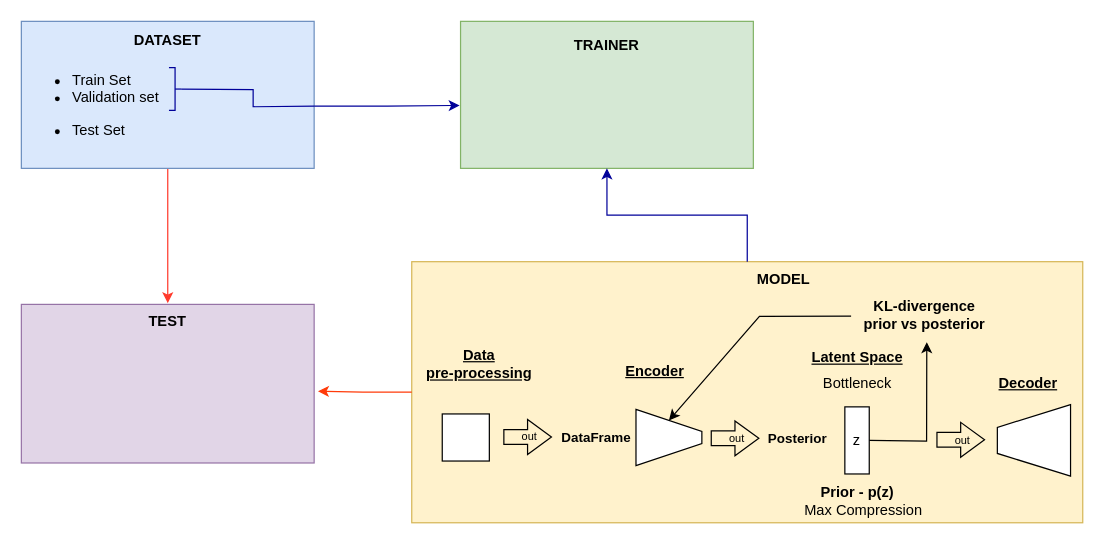
This 1104x556 diagram has some shape labels left out. Each missing label, with the centre of its shape:
p(x|z): point (1033, 439)
q(z|x): point (668, 437)
